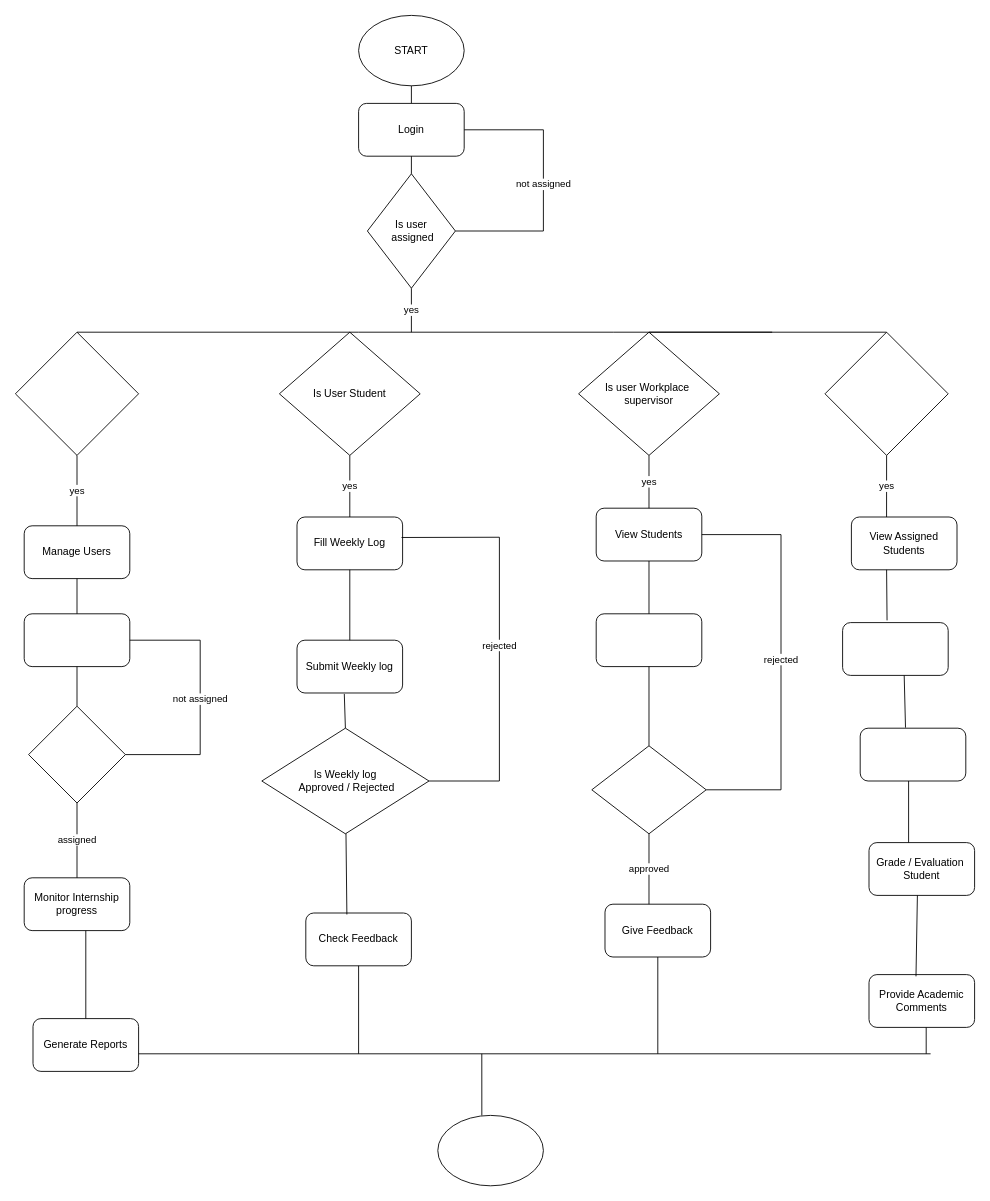
Some shapes in this 990 by 1201 pixel diagram are drawn without their labels. Each missing label, with the box of its shape:
Are users assigned: (28, 705, 125, 803)
Assign Supervisors: (23, 613, 130, 667)
Check Workplace supervisor Feedback: (859, 727, 966, 781)
END: (437, 1115, 543, 1186)
Is Approved / Rejected: (591, 745, 706, 834)
Is User Academic Supervisor: (824, 331, 948, 455)
Is User Admin: (15, 331, 139, 455)
Review Weekly logs: (595, 613, 702, 667)
Review Weekly Reports: (842, 622, 948, 675)
